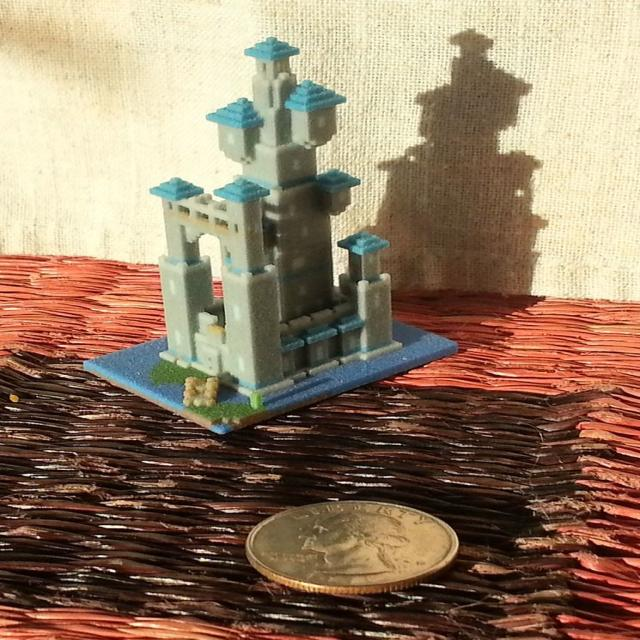Coin: (244, 501, 461, 595)
